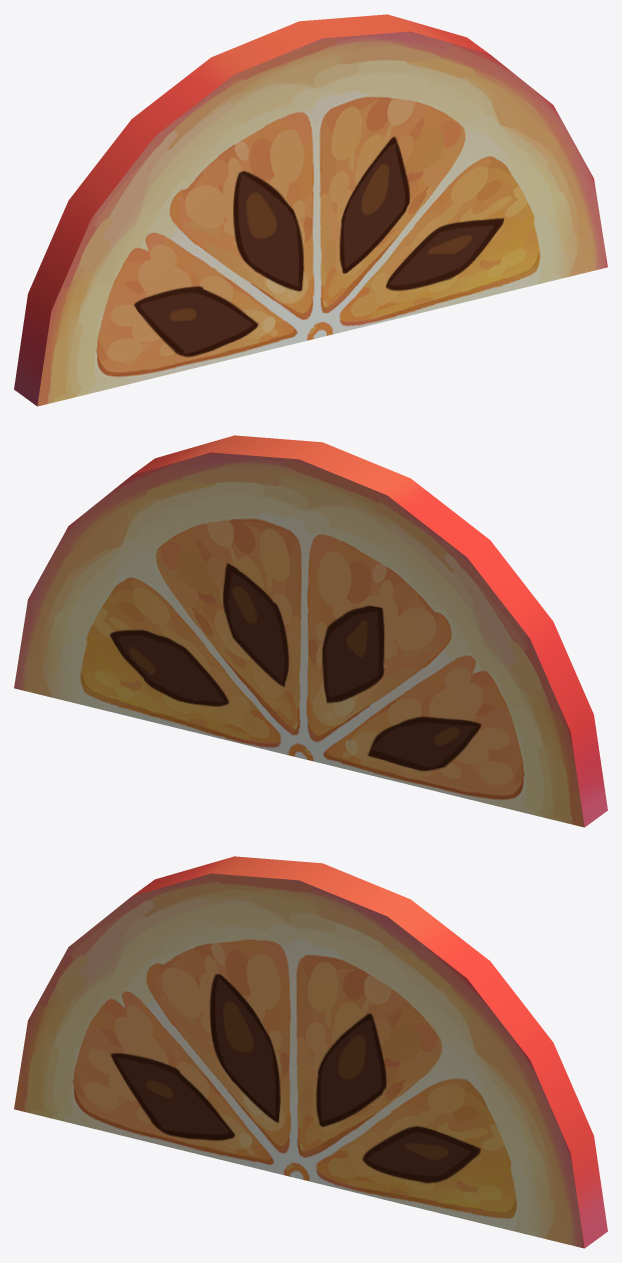
File: orenge2.fbx
3 renders of one model, top to bottom at view 1: azimuth 30°, elevation 25°; view 2: azimuth 150°, elevation 25°; view 3: azimuth 330°, elevation 25°, orthographic.
Visible parts, largest first — view 1: Cylinder001; view 2: Cylinder001; view 3: Cylinder001.
Boxes of the visible parts, x1=… form: Cylinder001: x1=14, y1=14, x2=607, y2=406; Cylinder001: x1=14, y1=435, x2=607, y2=827; Cylinder001: x1=14, y1=856, x2=607, y2=1248.
Bounding box in the file's own units: 18.11 × 9.06 × 1.28.
